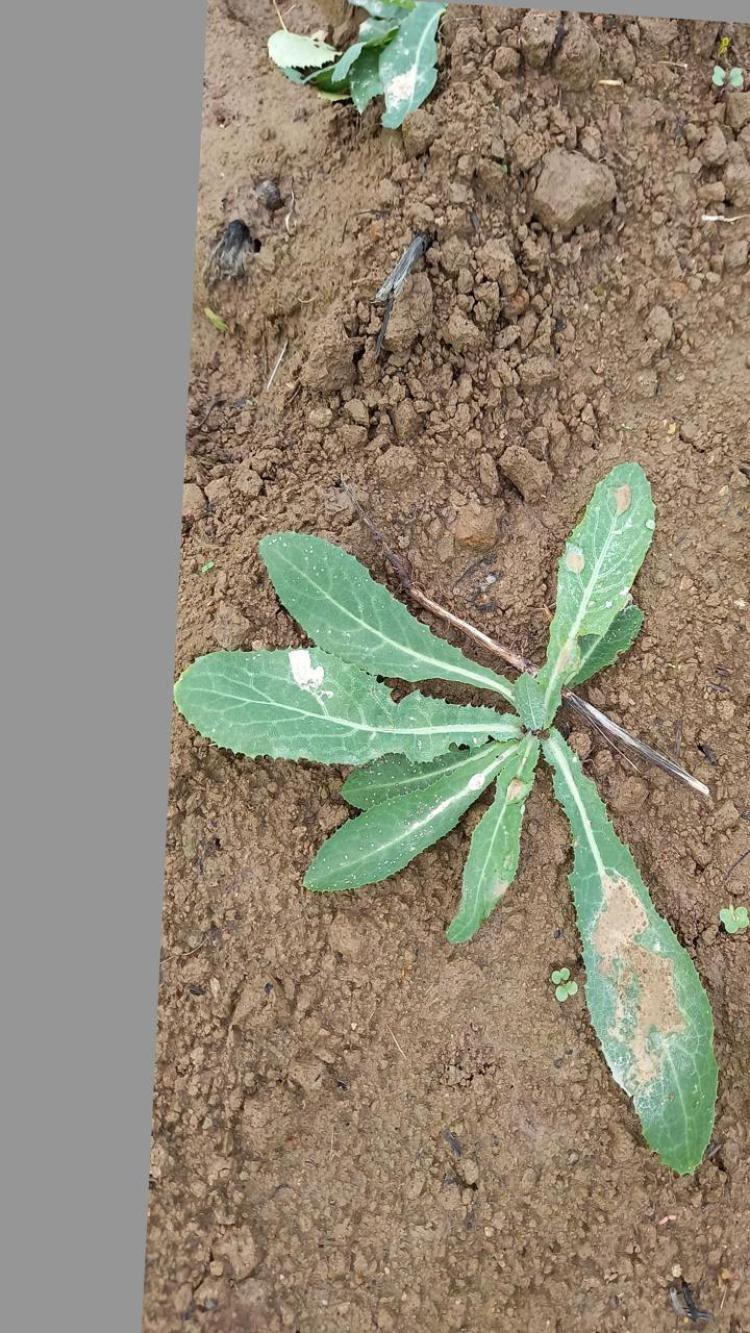osot: (173, 460, 725, 1177)
